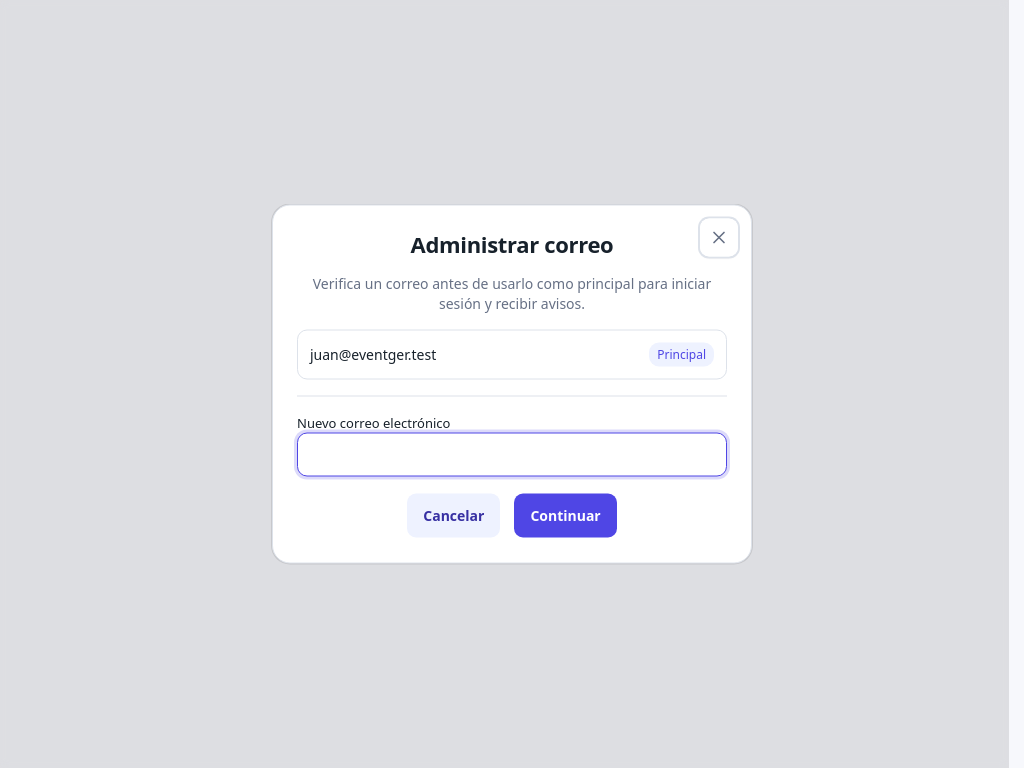
Scenario: EmailDialog › valida correos y códigos antes de contactar Clerk
In the field labelled "Nuevo correo electrónico": (512, 454) [297,432,727,476], type "invalid"
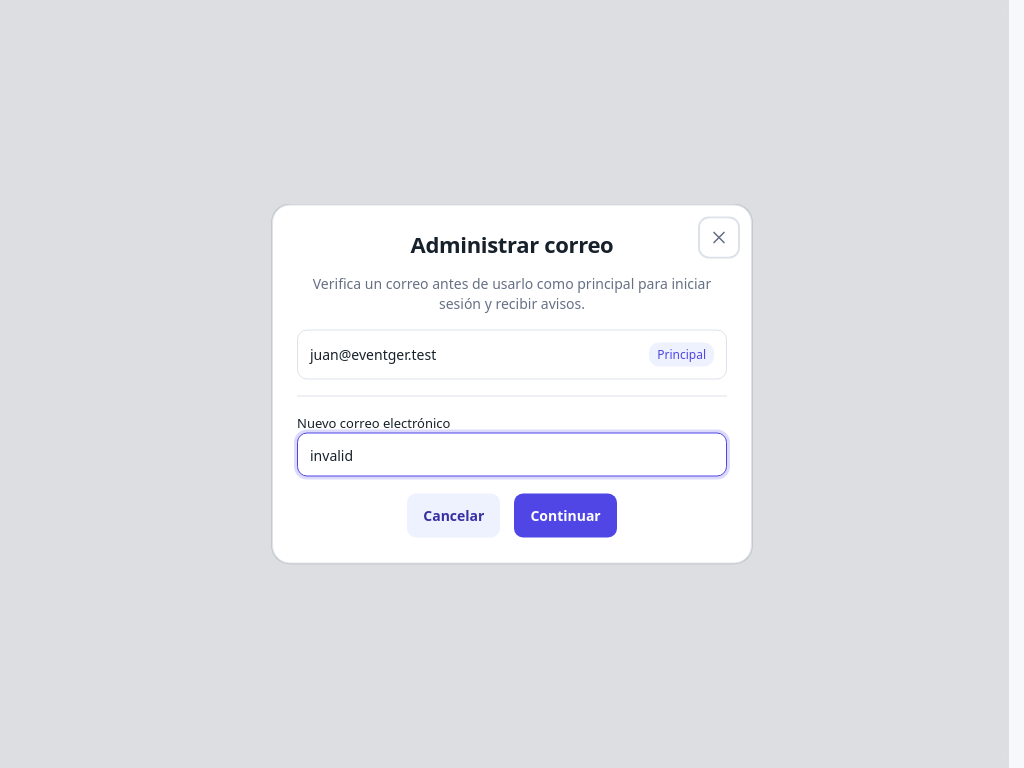
Click the button "Continuar": (566, 516) [513,492,618,538]
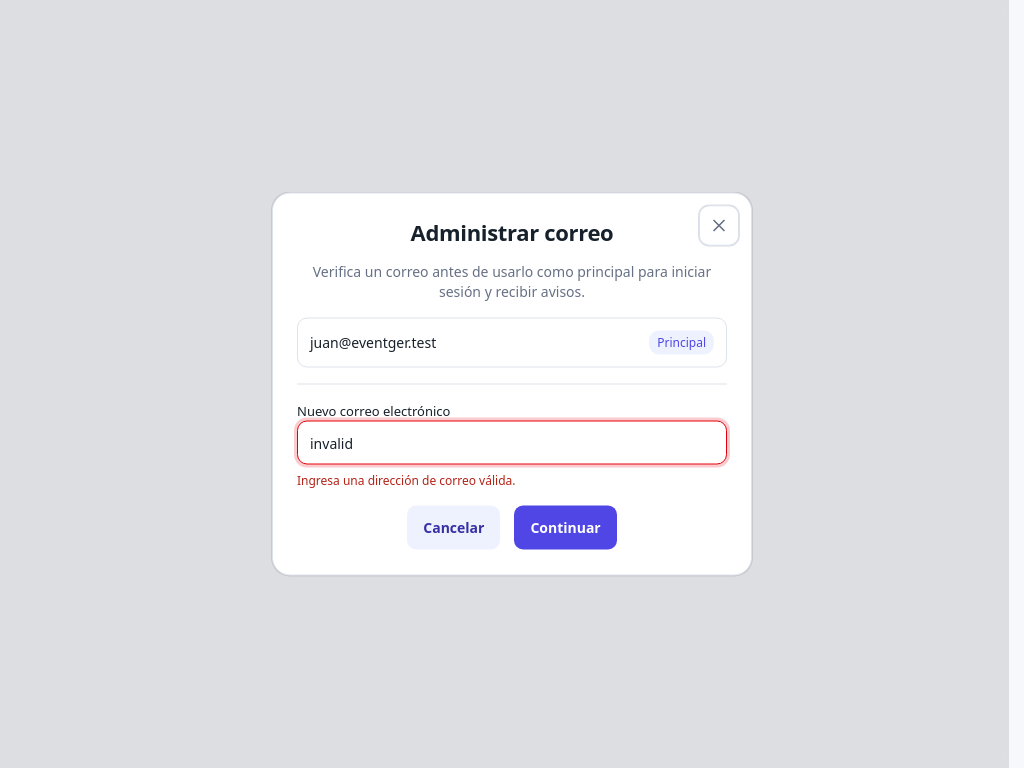
Check: the text "Ingresa una dirección de correo válida." is shown, box [297,472,516,488]
